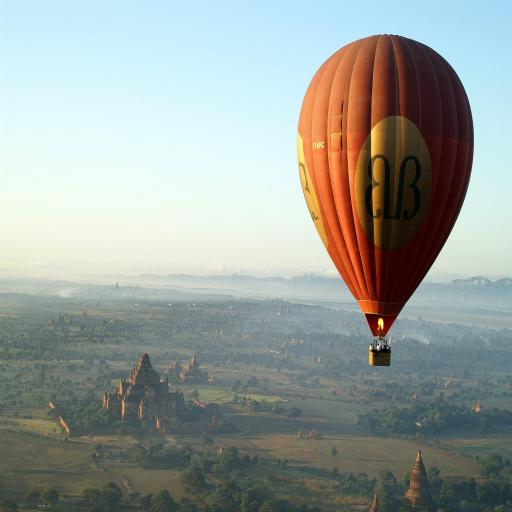hot air ballon: (297, 36, 473, 366)
